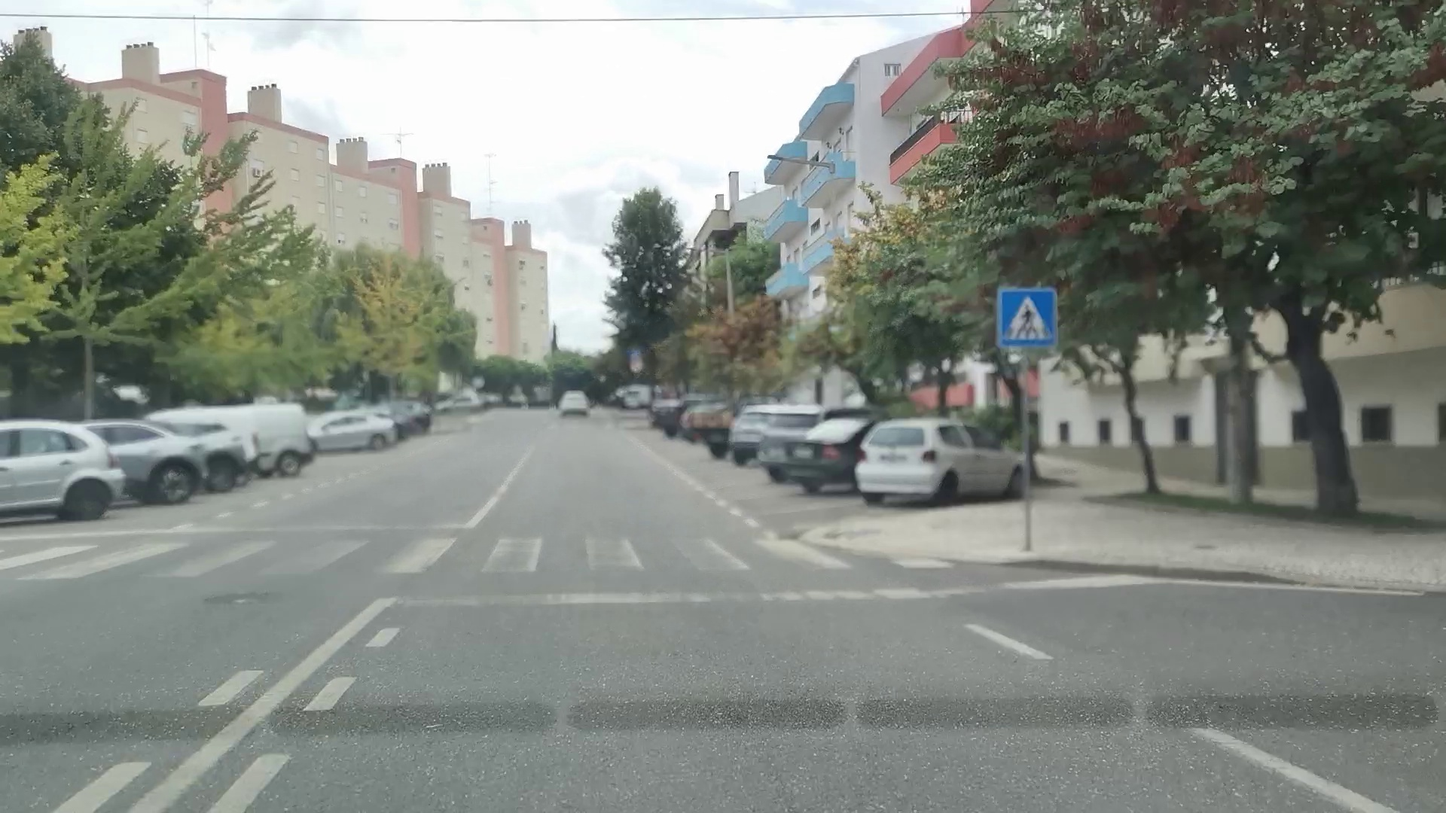Stairs: (4, 539, 935, 577)
